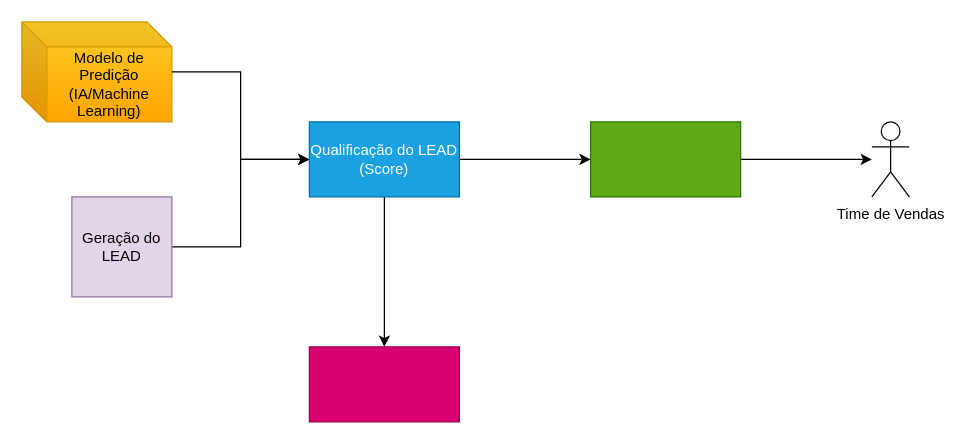
Image size: 966x444. Some labels were removed from this diagram. The shapes that lost their labels are listed below. From the top down, each one's centre as x and y in pixels, then its label:
At (665,159): "Score alto, alta probabilidade de conversão".
At (383,384): "Score baixo, baixa probabilidade de conversão".
